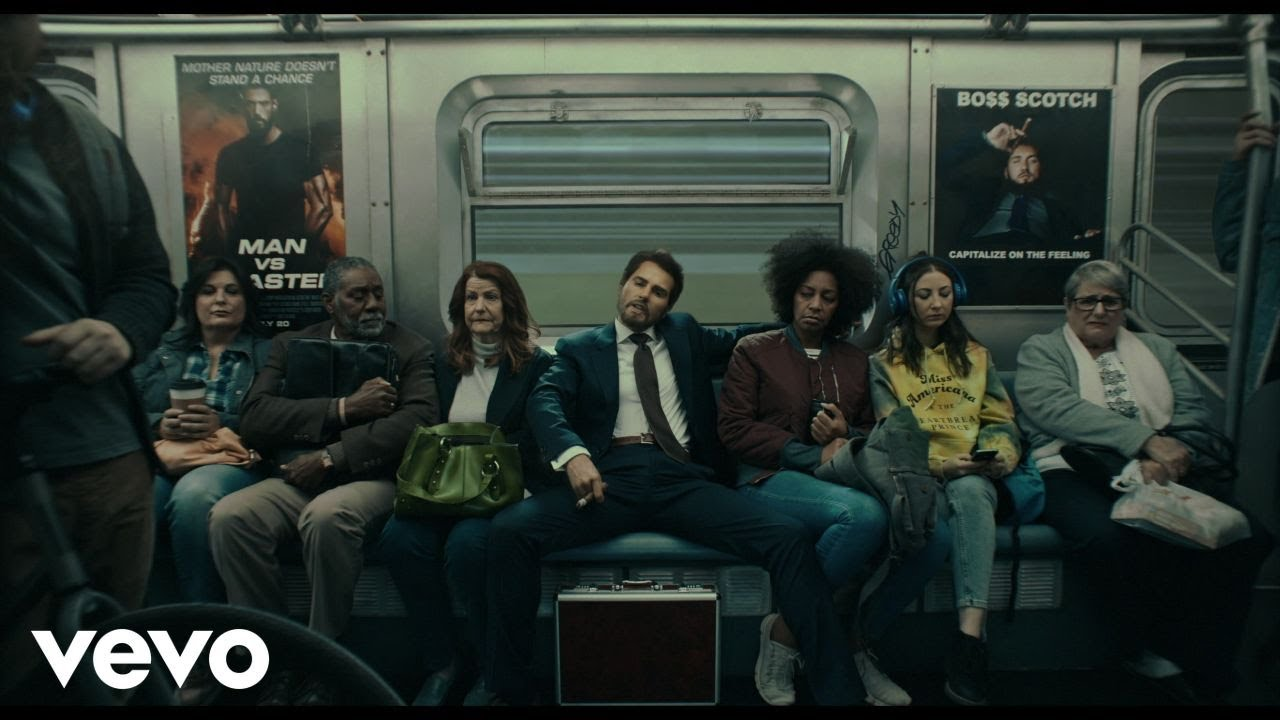Without Helmet: (763, 237, 885, 352), (444, 258, 527, 362), (883, 250, 965, 353), (176, 250, 258, 348), (607, 246, 690, 338), (1061, 253, 1135, 351), (316, 251, 389, 344)
